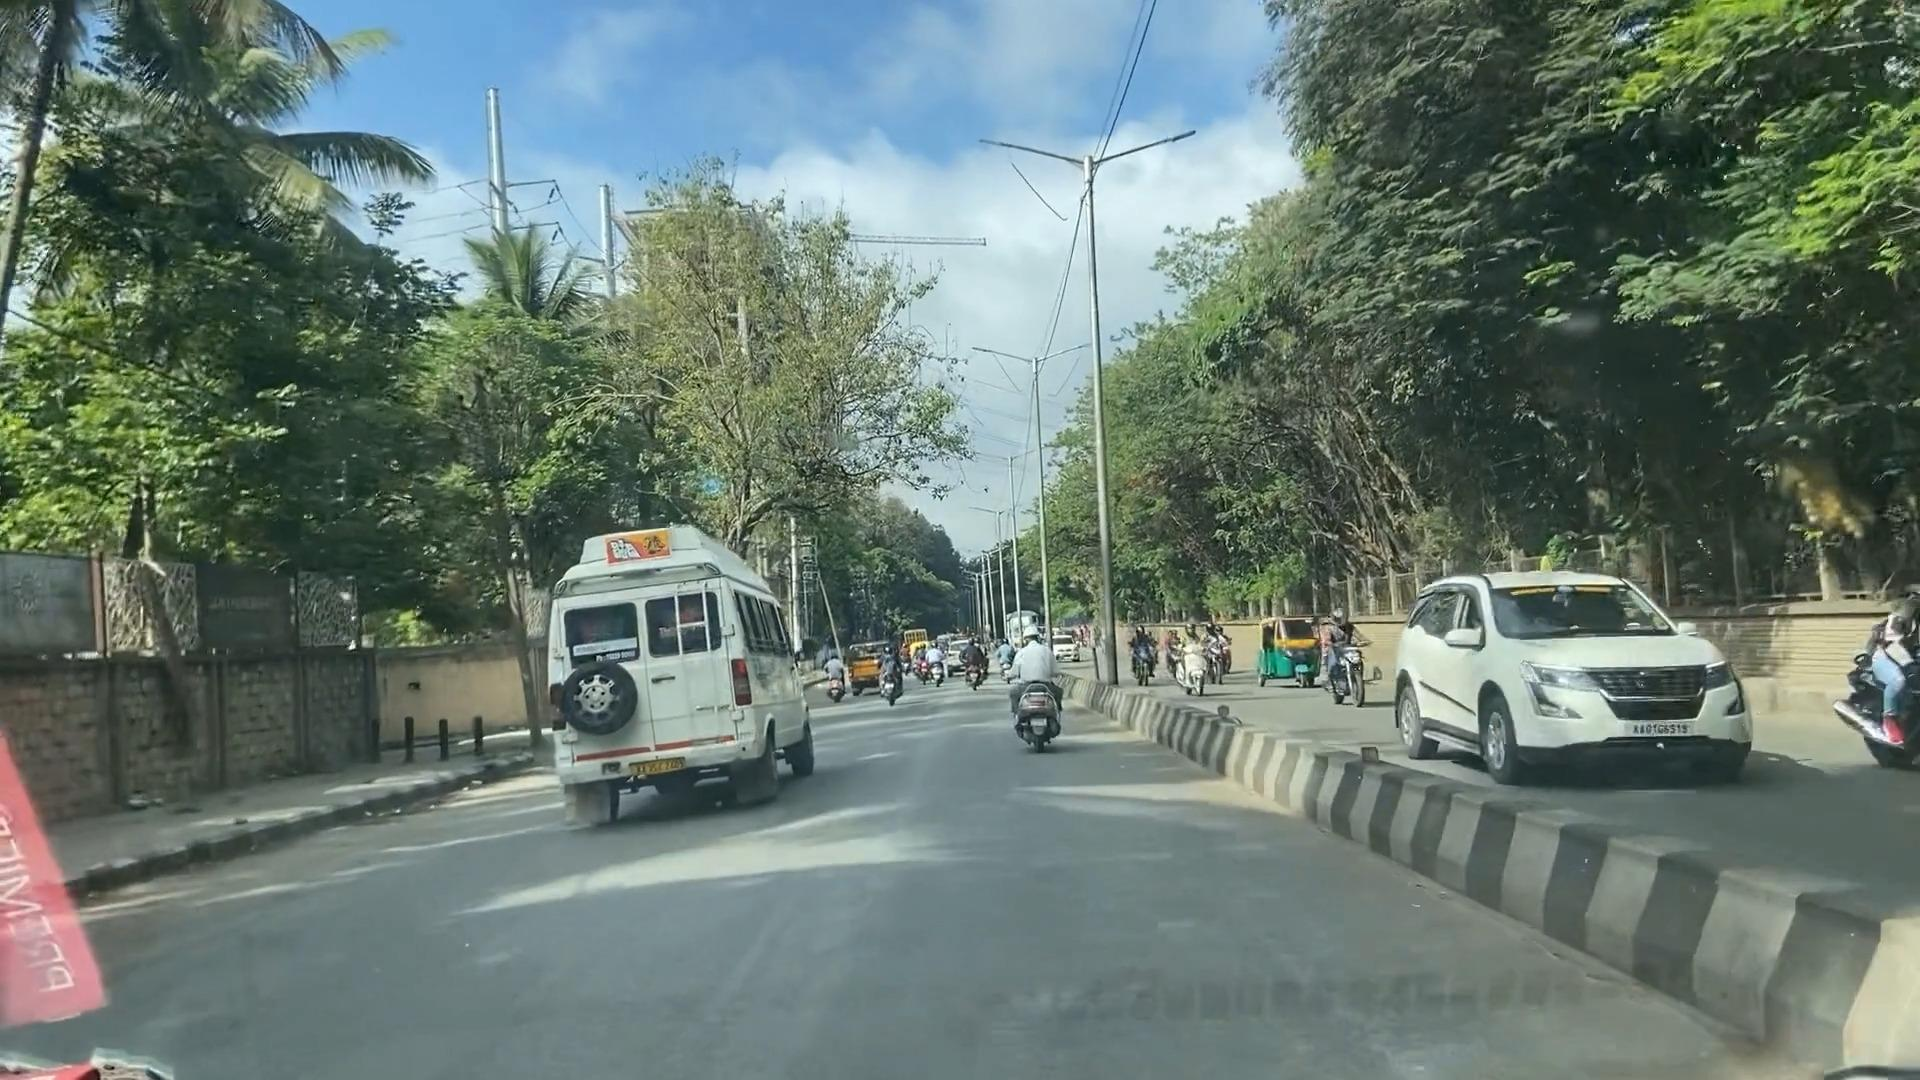HMV: (524, 535, 825, 811)
LMV: (998, 605, 1079, 765)
